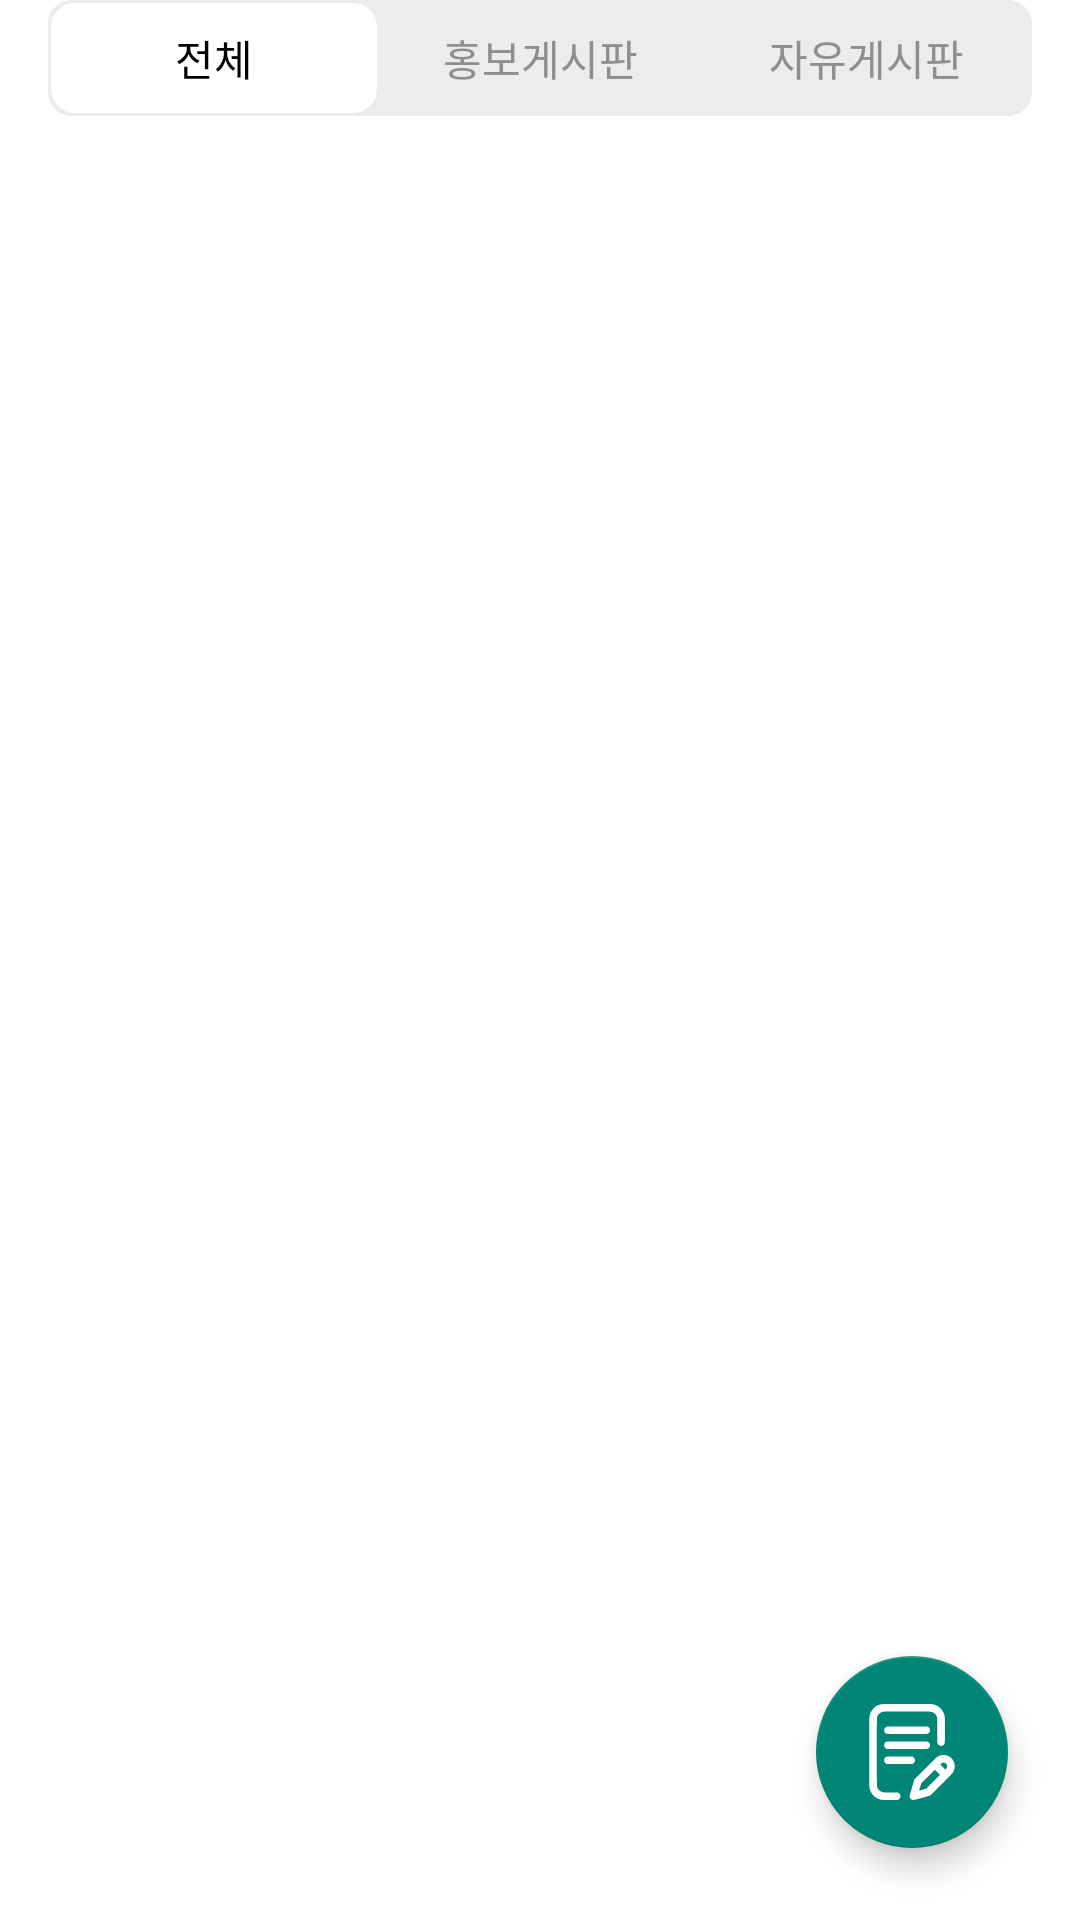

Point at icon controls on the screen. Image size 1080*1920, points as [x,y].
vi write community: [912,1752]
